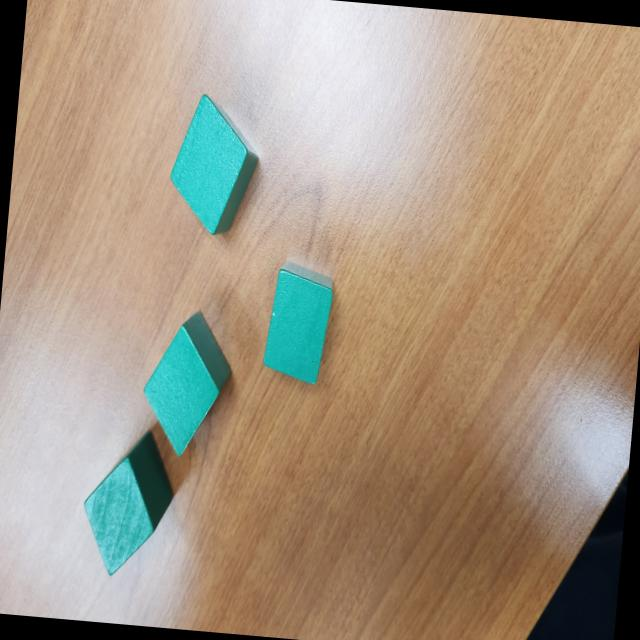green: (78, 424, 180, 582), (137, 304, 237, 462), (162, 88, 264, 240), (260, 258, 336, 387)
